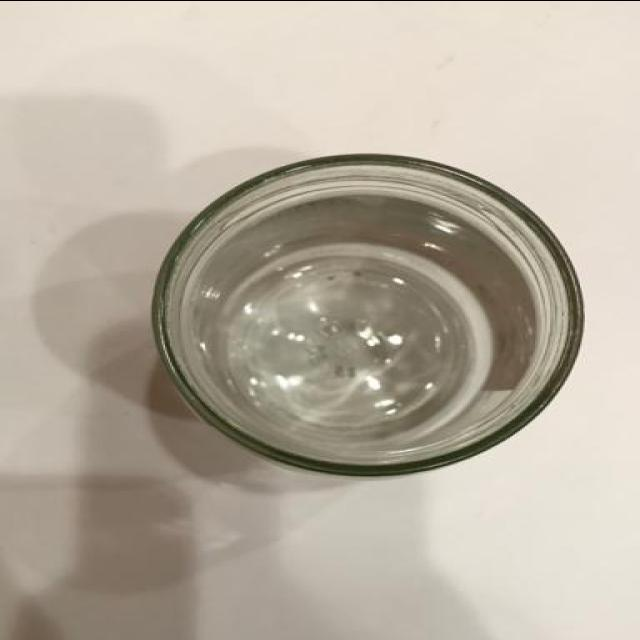glass: (140, 147, 594, 486)
